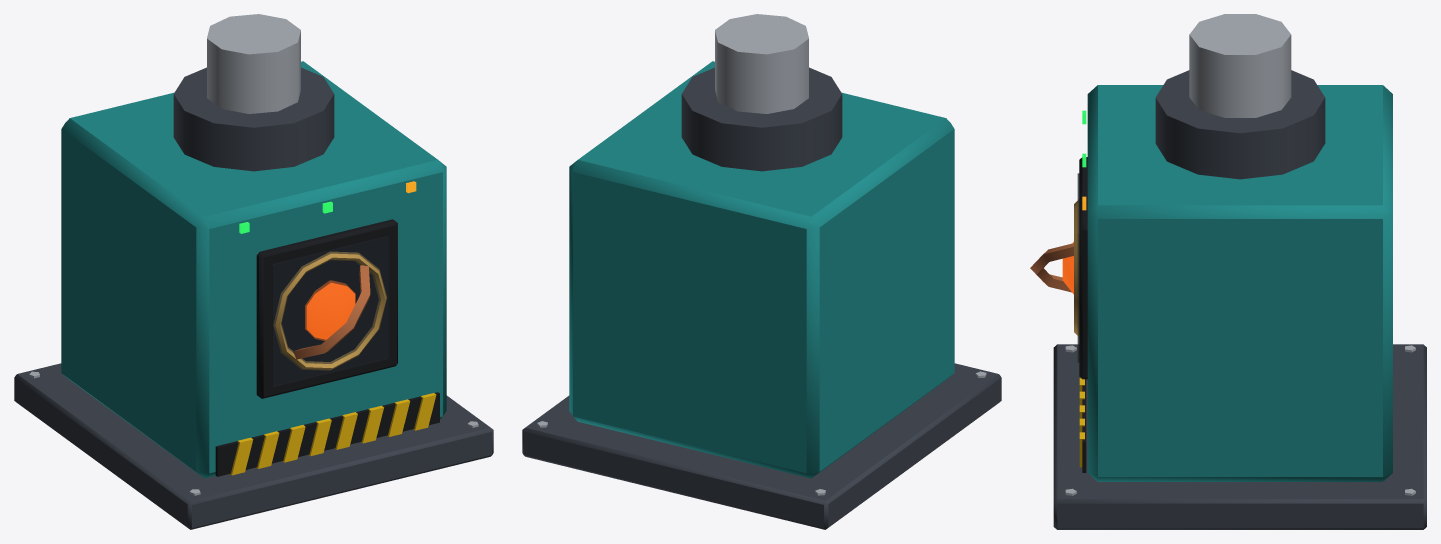
Rendered from generator_micro_fusion_generator.glb.
3 views of the same model, side by side, from view 1: azimuth 30°, elevation 25°; view 2: azimuth 150°, elevation 25°; view 3: azimuth 270°, elevation 25° (orthographic). The views are drawn at different scales.
Parts seen in each view (by area): view 1: generator_micro_fusion_generator; view 2: generator_micro_fusion_generator; view 3: generator_micro_fusion_generator.
Part boxes in pixels (<box>): generator_micro_fusion_generator: <box>14,14,493,529</box>; generator_micro_fusion_generator: <box>522,14,1001,529</box>; generator_micro_fusion_generator: <box>1030,14,1426,529</box>.
Size of the model in its own units: 1.1 by 1.36 by 1.17.
